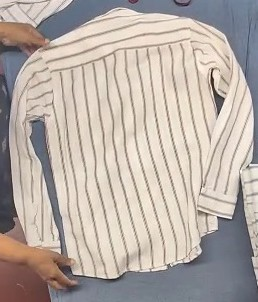SHIRT: (9, 38, 258, 255)
